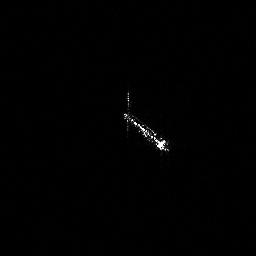ship: (120, 106, 175, 158)
